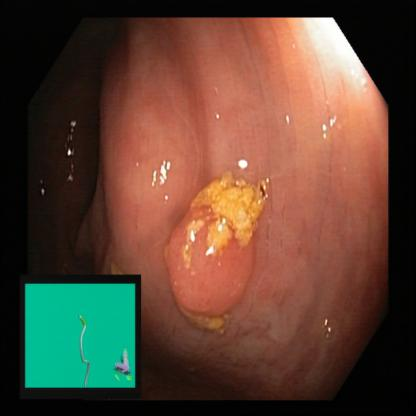Labels: (17, 270, 142, 396)
Polyps: (168, 178, 258, 324)
